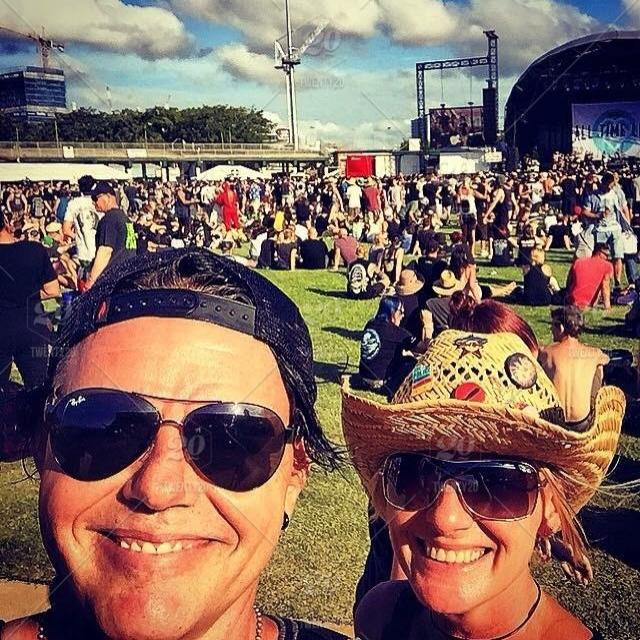cap: (37, 249, 317, 640)
hat: (342, 330, 629, 616)
